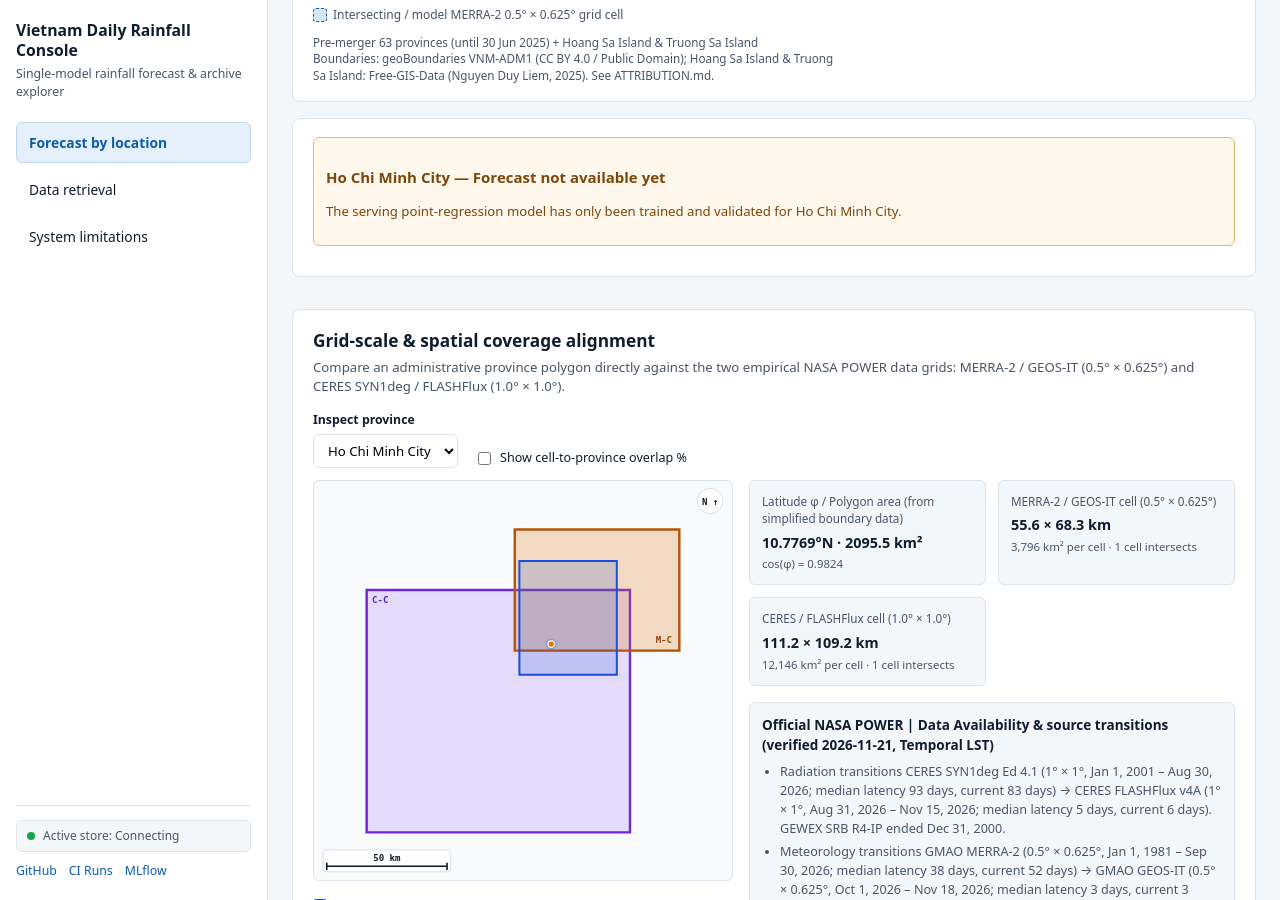
Test: Round 10 English SPA, Single-Model Main, 2-Layer Map & Data Retrieval › renders Tab 1 GridScalePanel with province selector, MERRA-2 + CERES SVG overlay, overlap %, and 35-var catalog (Part B)
The image size is (1280, 900).
(page scrolled)
Check: the picture with test id "grid-scale-svg" is shown, box [313, 480, 733, 881]
Select "Ha Noi" in the dropdown named "Select province for grid alignment" at (386, 451), box [313, 434, 458, 468]
(page scrolled)
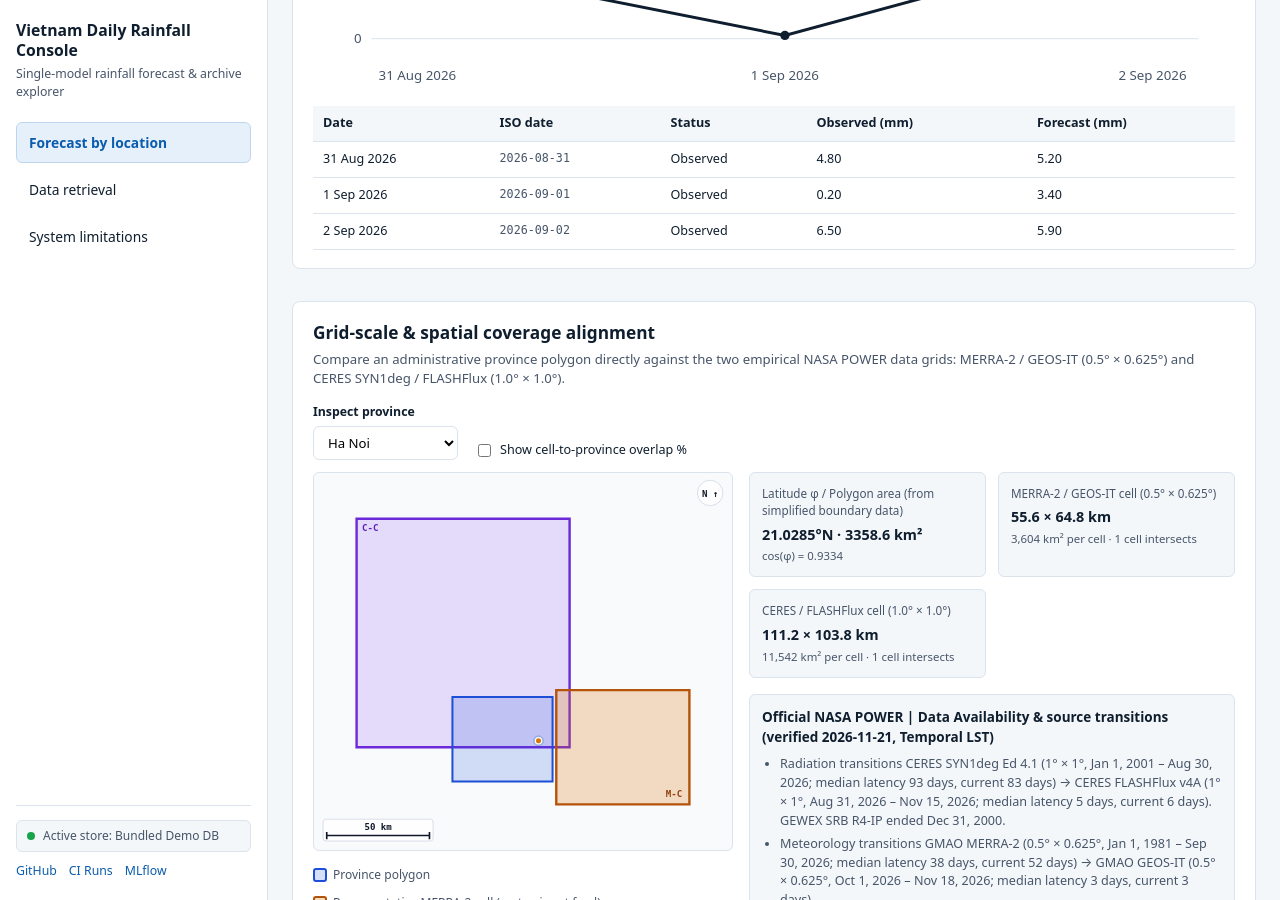
Click the checkbox labelled "Show cell-to-province overlap %" at (484, 450), box [478, 444, 491, 457]
(page scrolled)
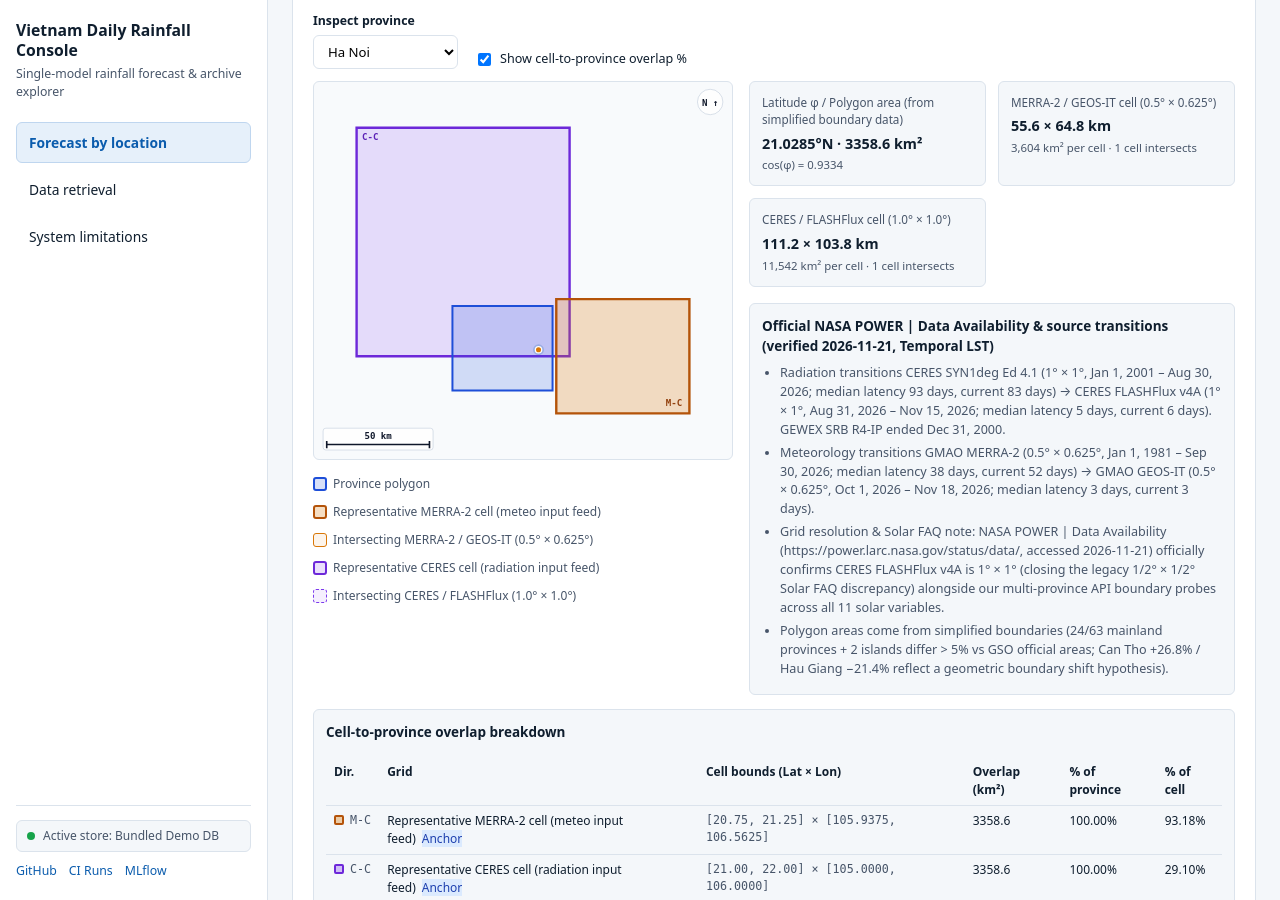
Check: the element with test id "grid-scale-panel" shows "Polygon area (from simplified boundary data)", box [762, 94, 934, 127]
Check: the element with test id "overlap-breakdown-table" shows "Representative MERRA-2 cell (meteo input feed)", box [387, 812, 623, 847]
Check: the element with test id "overlap-breakdown-table" shows "Representative CERES cell (radiation input feed)", box [387, 861, 622, 896]
